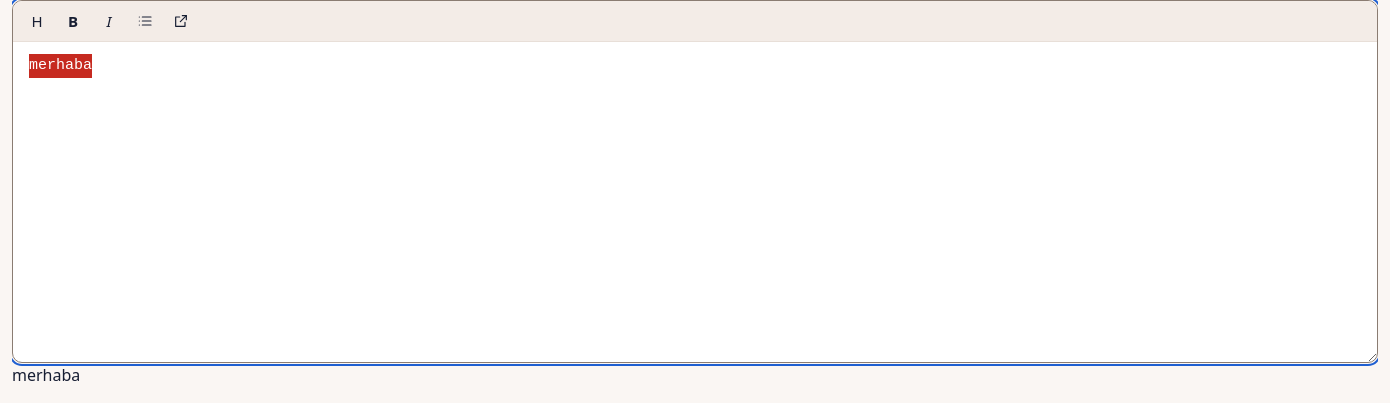
MarkdownEditor araç çubuğu › seçimi kalın yapar, başlık ve liste öneki ekler
Click the button named "Kalın": (73, 21) [57, 5, 89, 37]
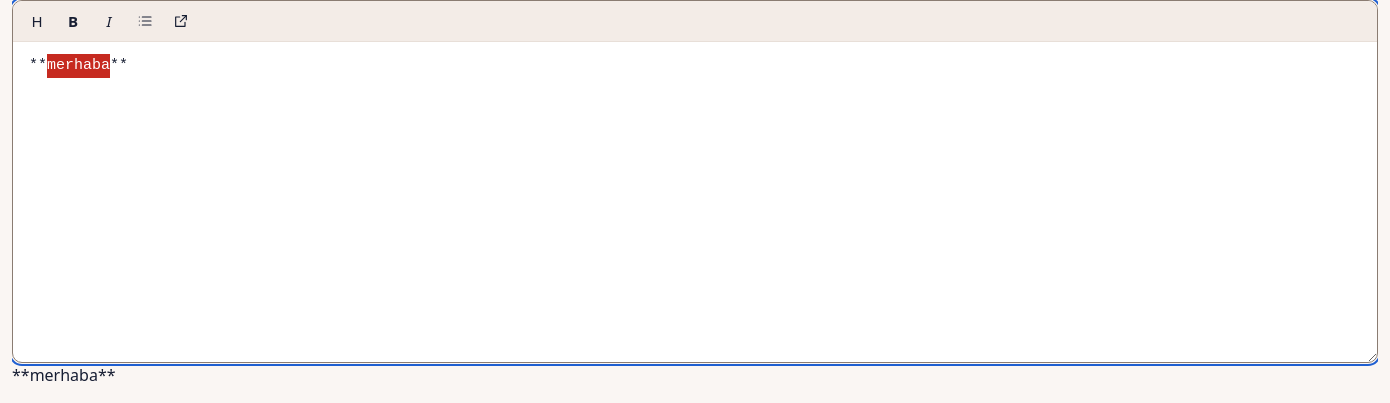
Expected: the text with test id "out" reads "**merhaba**", [12, 364, 116, 386]
Click the button named "Başlık": (37, 21) [21, 5, 53, 37]
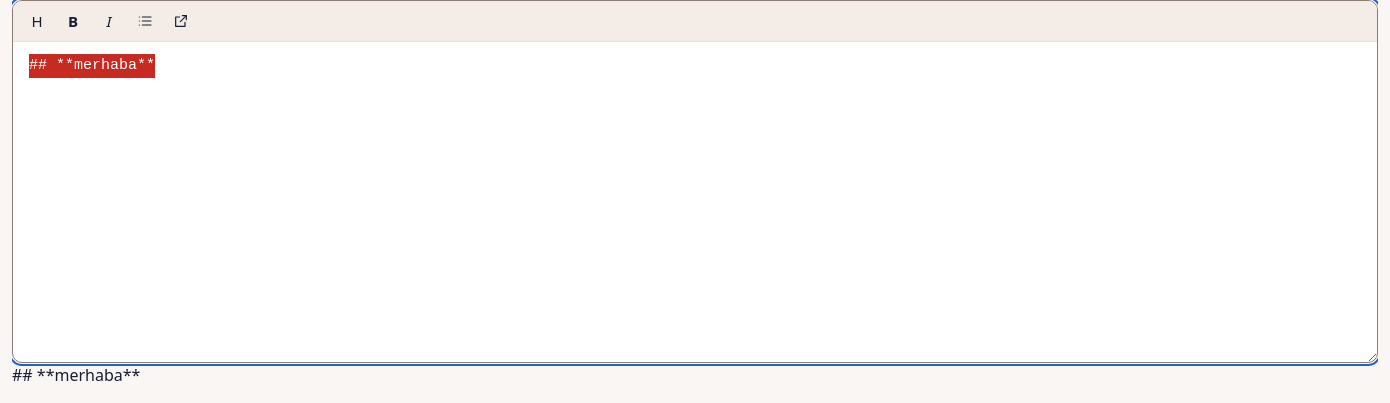
Expected: the text with test id "out" reads "## **merhaba**", [12, 364, 140, 386]
Click the button named "Liste": (145, 21) [129, 5, 161, 37]
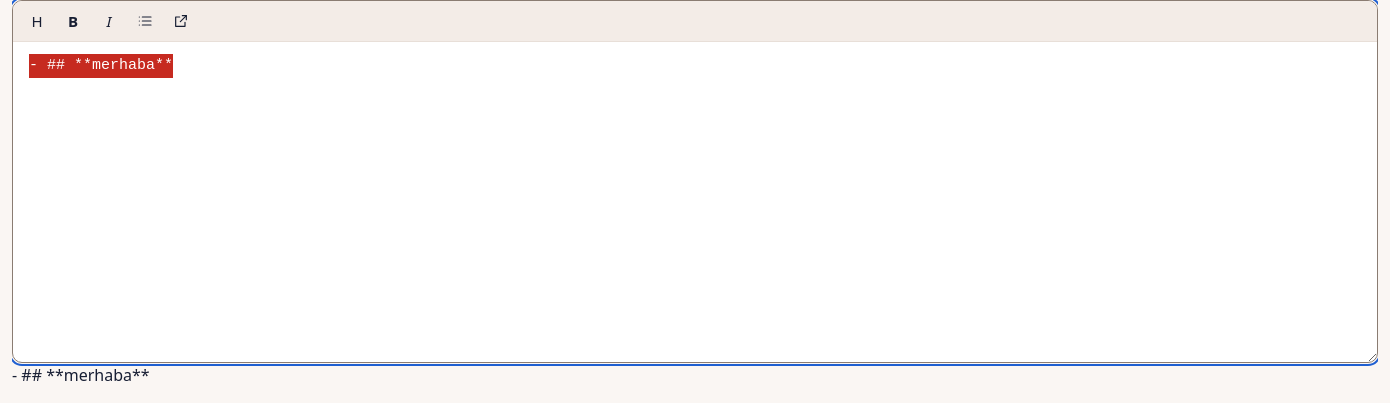
Expected: the text with test id "out" reads "- ## **merhaba**", [12, 364, 150, 386]
